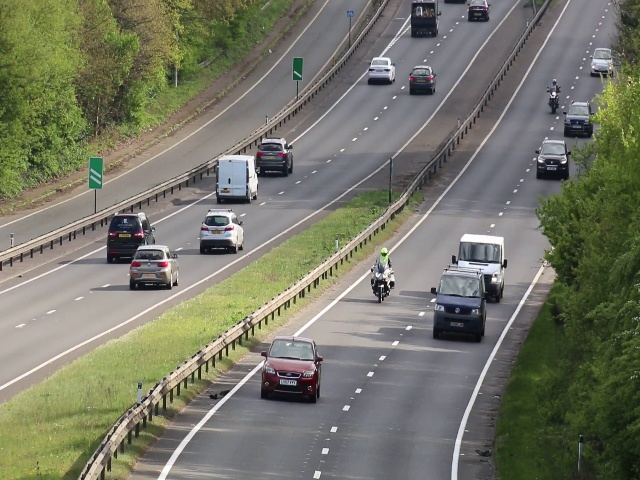car: (430, 267, 488, 342), (259, 336, 322, 402), (453, 234, 507, 287), (103, 211, 156, 263), (214, 155, 259, 208), (128, 243, 181, 287), (200, 207, 246, 252), (255, 136, 291, 176), (538, 138, 565, 179), (409, 2, 439, 38), (567, 99, 591, 137), (407, 66, 438, 92), (368, 55, 395, 84), (592, 45, 613, 77), (468, 1, 488, 22)
